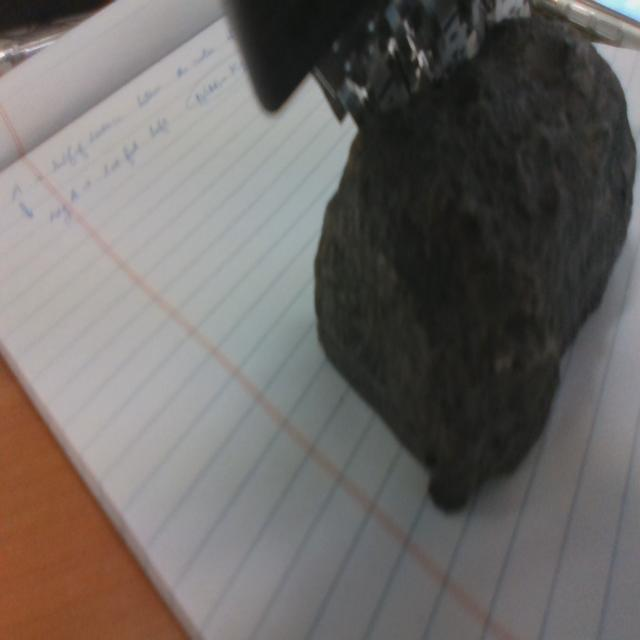stone: (315, 17, 637, 516)
